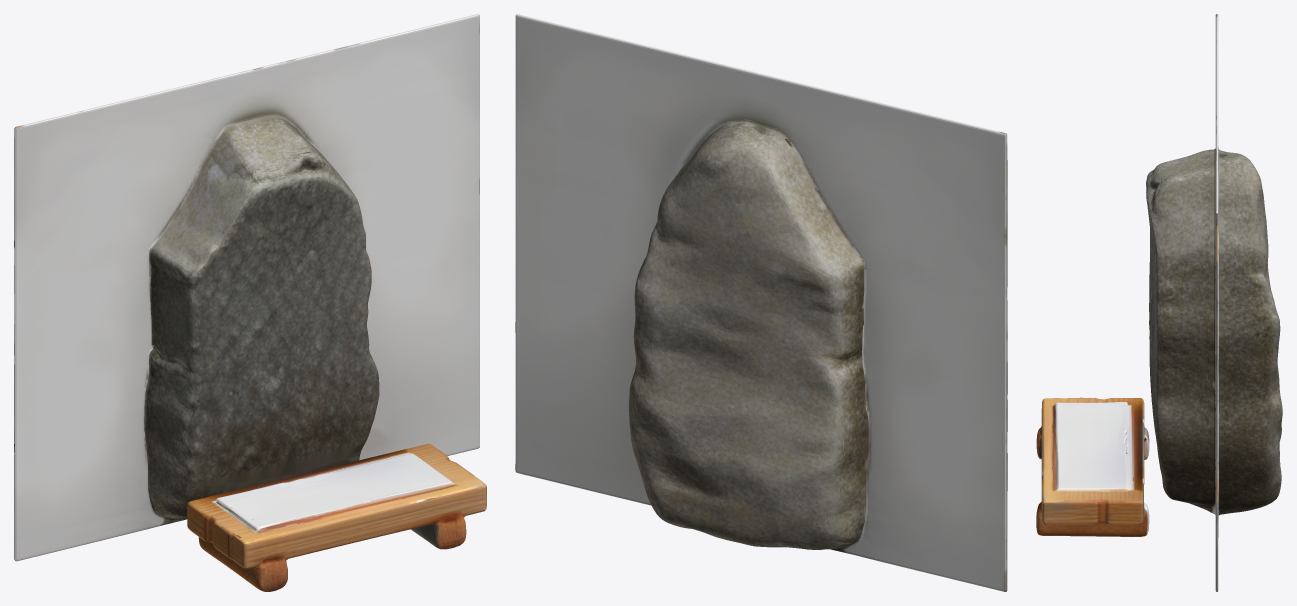
File: traveler_env_coast_iuchi_mine_memorial_00001_.glb
3 views of the same model, side by side, from view 1: azimuth 30°, elevation 25°; view 2: azimuth 150°, elevation 25°; view 3: azimuth 270°, elevation 25° (orthographic). The views are drawn at different scales.
Visible parts, largest first — view 1: temp_mesh.ply; view 2: temp_mesh.ply; view 3: temp_mesh.ply.
Part boxes in pixels (box(x1,y1,x2,y2)): temp_mesh.ply: box(14, 14, 486, 591); temp_mesh.ply: box(515, 14, 1007, 591); temp_mesh.ply: box(1036, 14, 1282, 591).
Size of the model in its own units: 1.97 by 1.76 by 1.03.
Materials: 1 (1 with a texture image).
